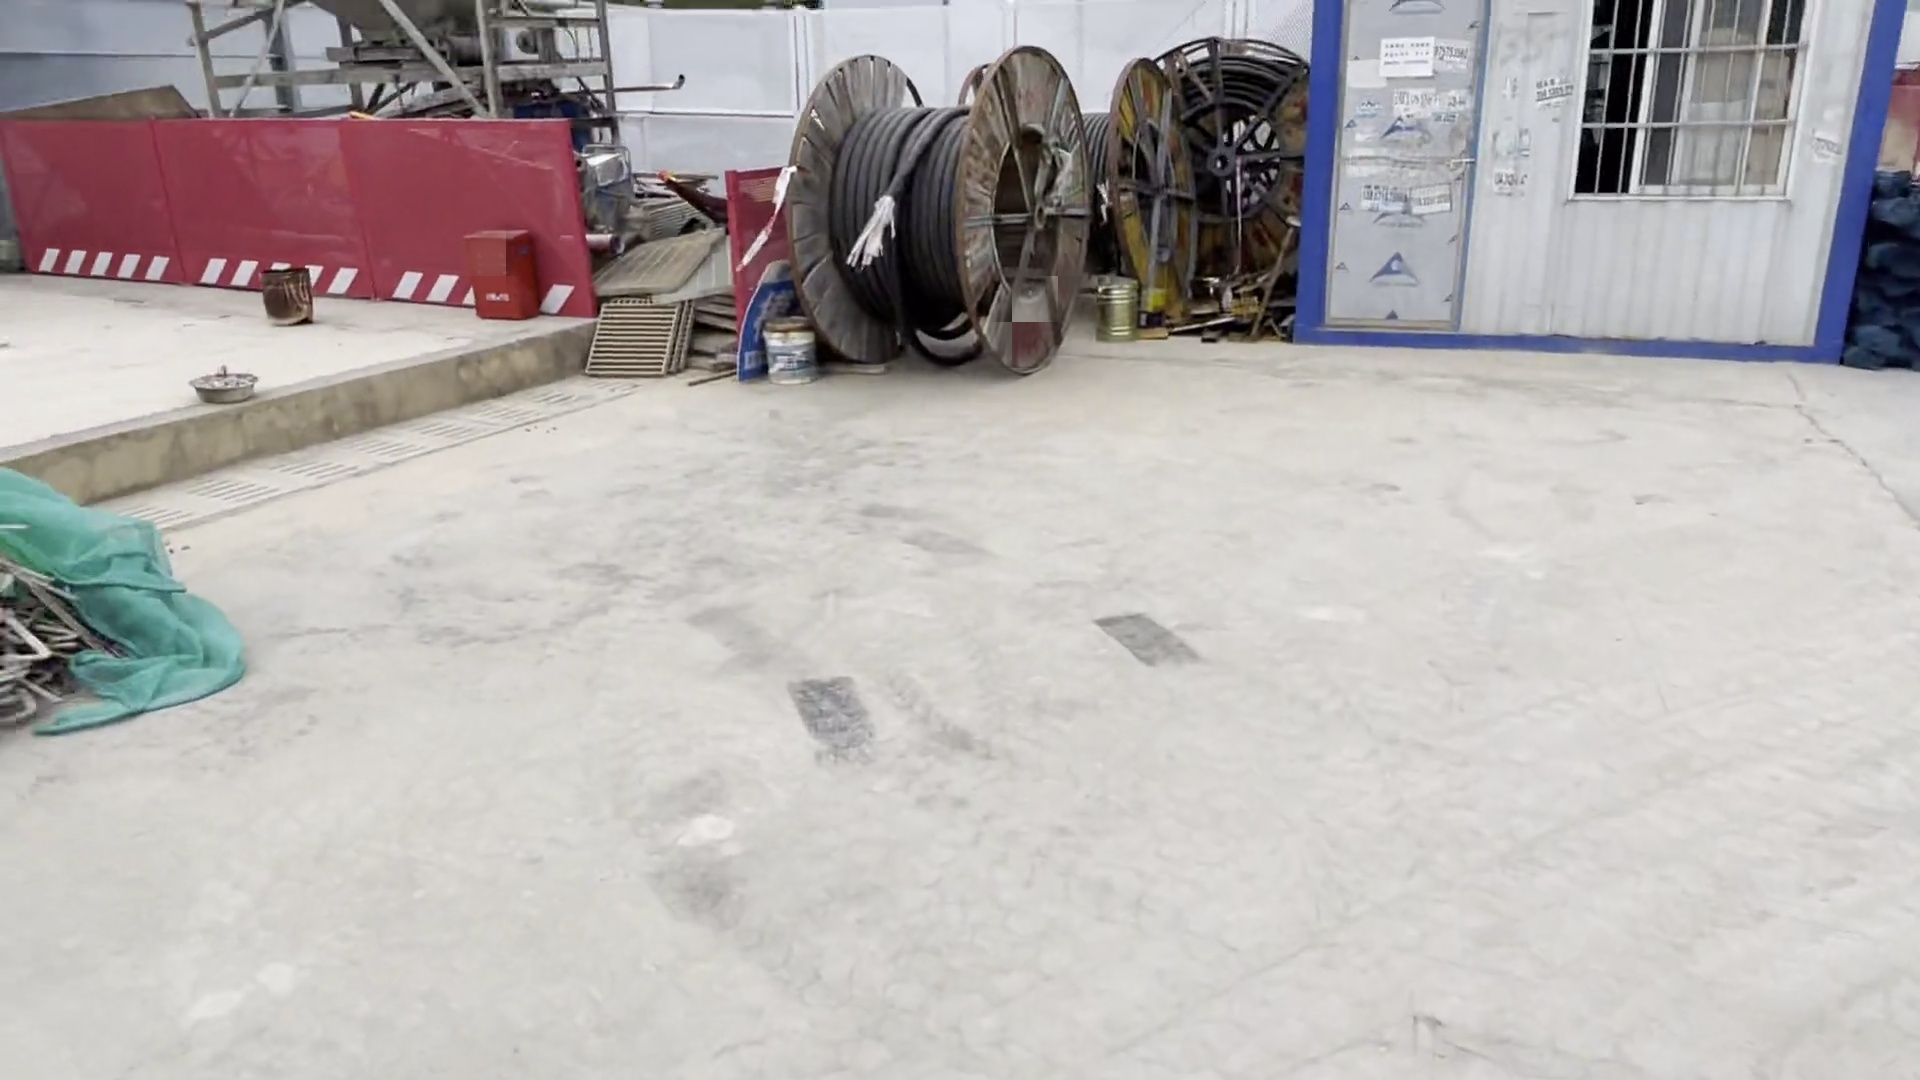fence: (11, 116, 638, 338)
